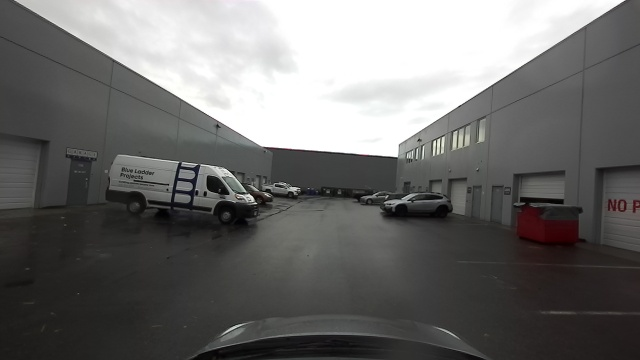car: (107, 152, 260, 222), (381, 192, 453, 220), (264, 181, 298, 200), (358, 193, 385, 206)
